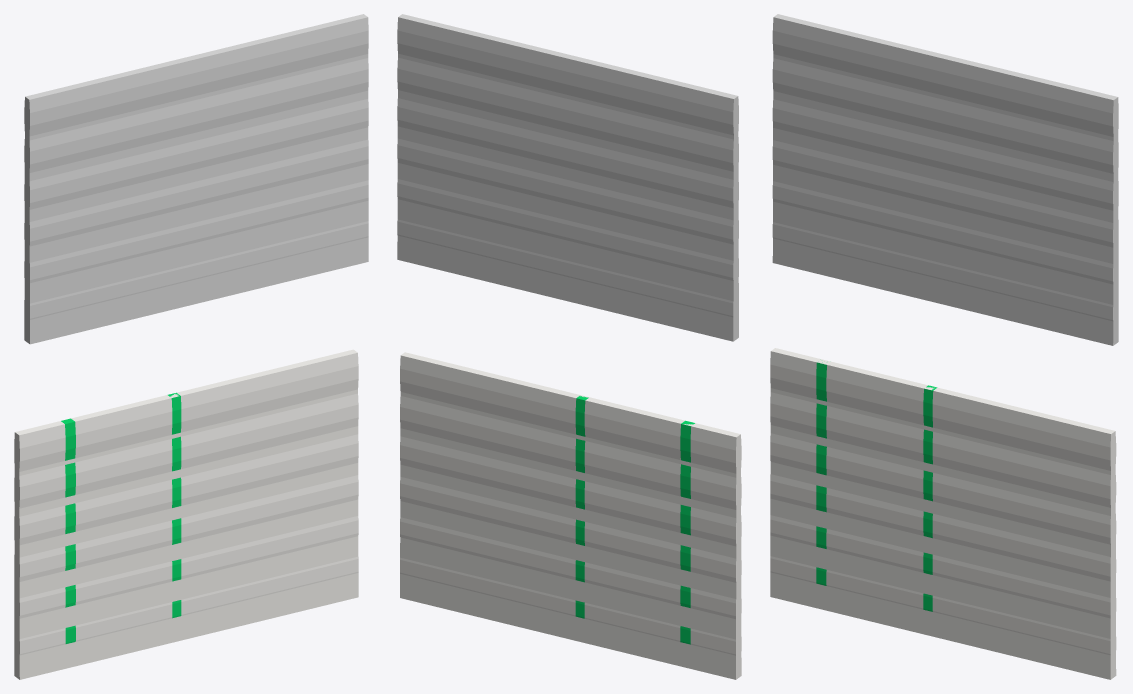
Rendered from FireWall.fbx.
3 views of the same model, side by side, from view 1: azimuth 30°, elevation 25°; view 2: azimuth 150°, elevation 25°; view 3: azimuth 330°, elevation 25° (orthographic).
Visible parts, largest first — view 1: FireWall2, FireWall, Door, WallJoint; view 2: FireWall2, FireWall, Door, WallJoint; view 3: FireWall2, FireWall, Door, WallJoint.
Part boxes in pixels (x1=…): FireWall2: x1=24, y1=14, x2=368, y2=344; FireWall: x1=14, y1=349, x2=358, y2=679; Door: x1=71, y1=395, x2=172, y2=641; WallJoint: x1=61, y1=392, x2=181, y2=643; FireWall2: x1=397, y1=14, x2=738, y2=341; FireWall: x1=400, y1=352, x2=741, y2=679; Door: x1=584, y1=398, x2=684, y2=641; WallJoint: x1=575, y1=396, x2=694, y2=644; FireWall2: x1=772, y1=14, x2=1118, y2=345; FireWall: x1=770, y1=348, x2=1116, y2=679; Door: x1=826, y1=364, x2=927, y2=609; WallJoint: x1=816, y1=362, x2=937, y2=611.
Bounding box in the file's own units: 500 × 804 × 23.58.
